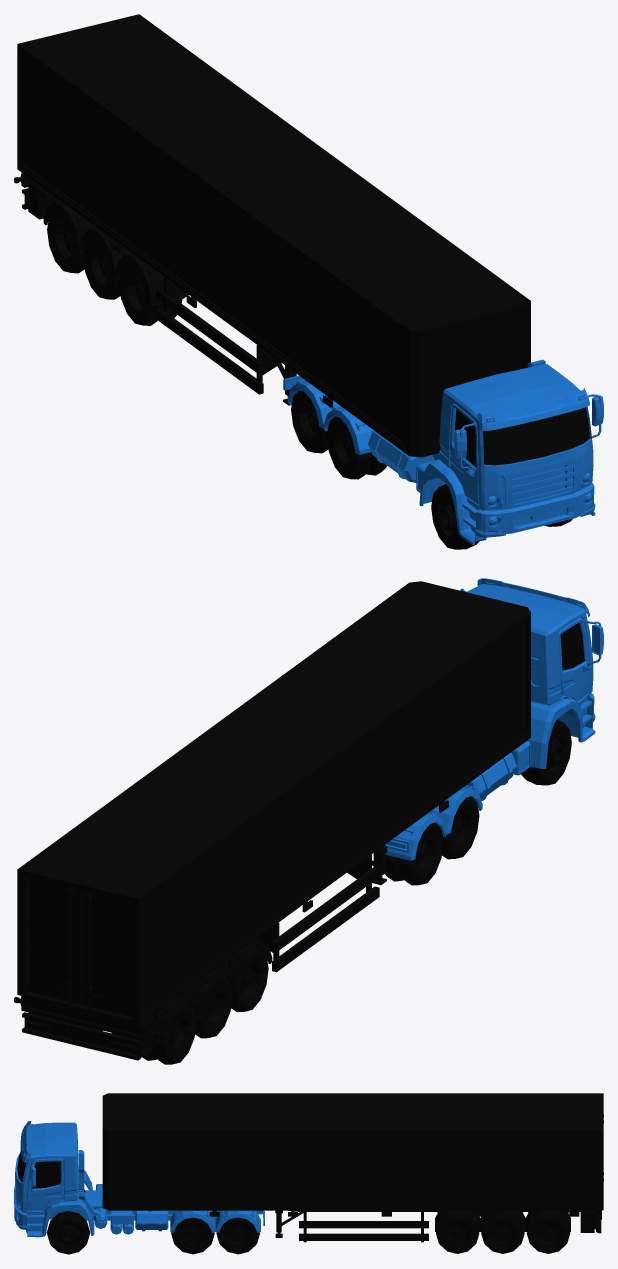
File: HALF_truck.fbx
3 views of the same model, one above another, from view 1: azimuth 30°, elevation 25°; view 2: azimuth 150°, elevation 25°; view 3: azimuth 270°, elevation 25° (orthographic). The views are drawn at different scales.
Visible parts, largest first — view 1: Cube_1, Symmetry_9, Oil_Tank_3_2, Oil_Tank_3, Oil_Tank_4_2, Oil_Tank_1, Oil_Tank_4, Oil_Tank_2; view 2: Cube_1, Symmetry_9, Symmetry_16, Symmetry_14, Oil_Tank_4_2, Oil_Tank_1, Oil_Tank_2, Oil_Tank_3_2, Oil_Tank_4, Oil_Tank_3; view 3: Cube_1, Symmetry_9, Oil_Tank_1_2, Oil_Tank_3_2, Oil_Tank_4_2, Oil_Tank_4, Oil_Tank_3, Oil_Tank_1.
Part boxes in pixels (bbox=[...]): Cube_1: bbox=[14, 14, 530, 457]; Symmetry_9: bbox=[283, 359, 603, 544]; Oil_Tank_3_2: bbox=[327, 416, 386, 479]; Oil_Tank_3: bbox=[119, 263, 182, 325]; Oil_Tank_4_2: bbox=[291, 390, 328, 453]; Oil_Tank_1: bbox=[47, 210, 84, 273]; Oil_Tank_4: bbox=[83, 237, 120, 299]; Oil_Tank_2: bbox=[431, 484, 479, 549]; Cube_1: bbox=[14, 581, 530, 1060]; Symmetry_9: bbox=[385, 578, 603, 860]; Symmetry_16: bbox=[25, 876, 79, 1004]; Symmetry_14: bbox=[79, 889, 131, 1015]; Oil_Tank_4_2: bbox=[385, 822, 443, 885]; Oil_Tank_1: bbox=[68, 1002, 196, 1064]; Oil_Tank_2: bbox=[521, 719, 571, 785]; Oil_Tank_3_2: bbox=[442, 796, 479, 859]; Oil_Tank_4: bbox=[195, 975, 232, 1038]; Oil_Tank_3: bbox=[231, 949, 268, 1011]; Cube_1: bbox=[102, 1093, 603, 1242]; Symmetry_9: bbox=[14, 1121, 264, 1237]; Oil_Tank_1_2: bbox=[46, 1211, 90, 1254]; Oil_Tank_3_2: bbox=[171, 1217, 214, 1254]; Oil_Tank_4_2: bbox=[216, 1217, 259, 1254]; Oil_Tank_4: bbox=[481, 1212, 524, 1253]; Oil_Tank_3: bbox=[436, 1212, 479, 1253]; Oil_Tank_1: bbox=[526, 1212, 570, 1253].
Size of the model in its own units: 295 by 377 by 1611.
